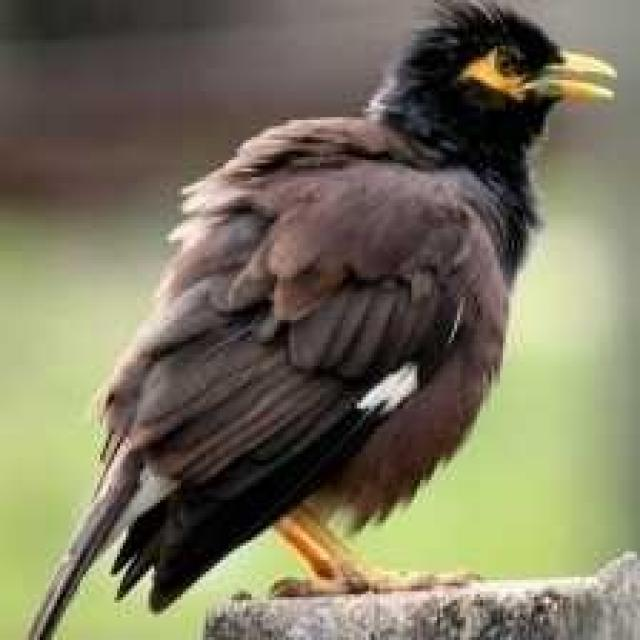bird: (41, 4, 622, 640)
